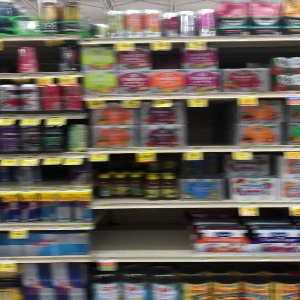void: (94, 208, 194, 254), (187, 101, 237, 149)
